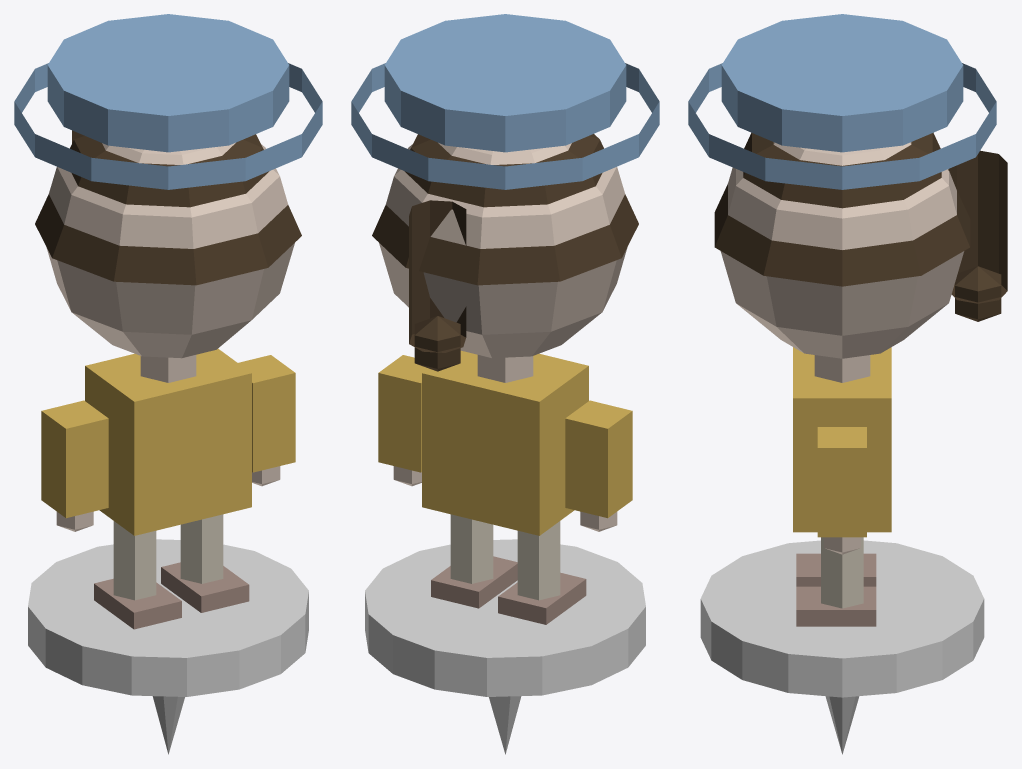
File: chibi_casual.glb
3 views of the same model, side by side, from view 1: azimuth 30°, elevation 25°; view 2: azimuth 150°, elevation 25°; view 3: azimuth 270°, elevation 25° (orthographic).
Visible parts, largest first — view 1: chibi_casual; view 2: chibi_casual; view 3: chibi_casual.
Boxes of the visible parts, x1,y1,x2,y2 form: chibi_casual: (14, 14, 322, 754); chibi_casual: (351, 14, 659, 754); chibi_casual: (688, 14, 1007, 754).
Size of the model in its own units: 0.5 by 1.23 by 0.518.
